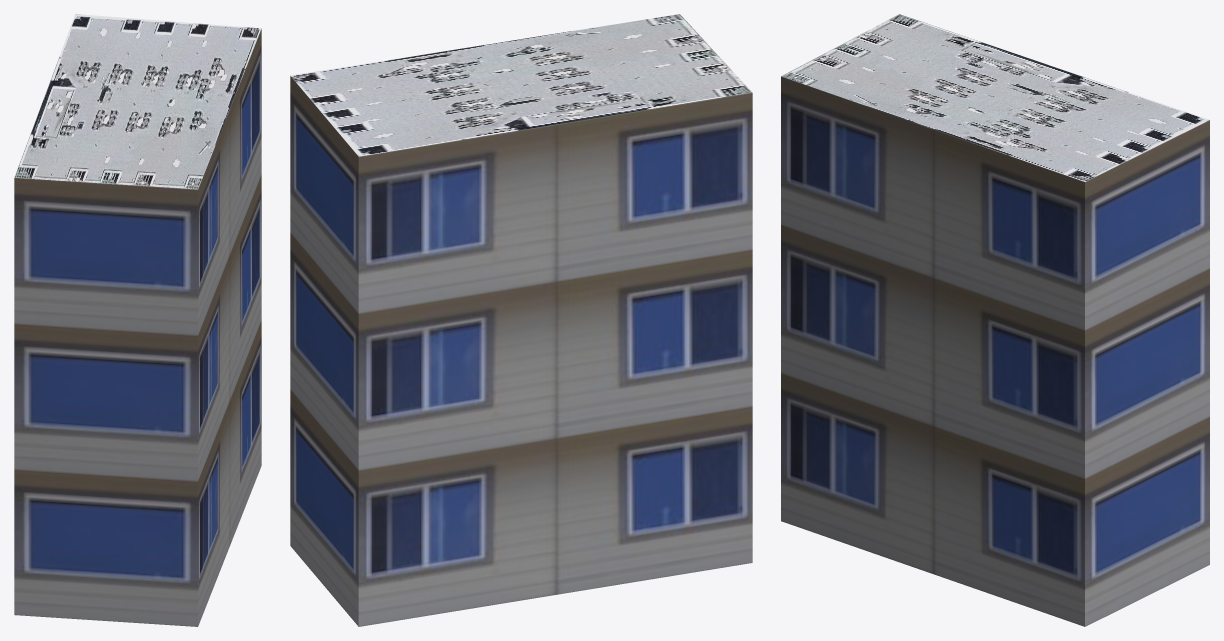
The model's file is ResTex__3753.fbx.
3 views of the same model, side by side, from view 1: azimuth 30°, elevation 25°; view 2: azimuth 150°, elevation 25°; view 3: azimuth 270°, elevation 25° (orthographic). The views are drawn at different scales.
Visible parts, largest first — view 1: CityEngineMaterial_23_m, CityEngineMaterial_m; view 2: CityEngineMaterial_23_m, CityEngineMaterial_m; view 3: CityEngineMaterial_23_m, CityEngineMaterial_m.
Part boxes in pixels (x1=…): CityEngineMaterial_23_m: x1=14, y1=29, x2=261, y2=626; CityEngineMaterial_m: x1=14, y1=14, x2=261, y2=189; CityEngineMaterial_23_m: x1=290, y1=76, x2=752, y2=626; CityEngineMaterial_m: x1=291, y1=14, x2=751, y2=156; CityEngineMaterial_23_m: x1=781, y1=76, x2=1209, y2=626; CityEngineMaterial_m: x1=781, y1=14, x2=1209, y2=181.
Bounding box in the file's own units: 7.29 × 9 × 7.86.
2 materials, 2 textured.
